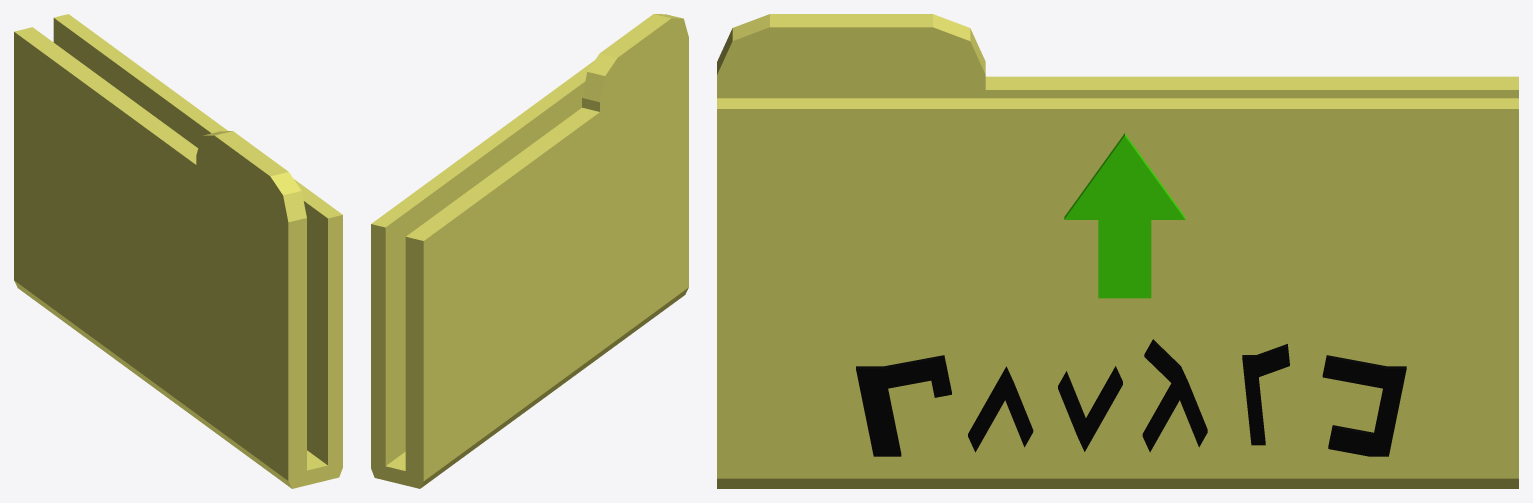
The model's file is FolderModifier.fbx.
3 renders of one model, left to right at view 1: azimuth 30°, elevation 25°; view 2: azimuth 150°, elevation 25°; view 3: azimuth 270°, elevation 25°, orthographic. The views are drawn at different scales.
Visible parts, largest first — view 1: Cube; view 2: Cube; view 3: Cube, Cube.002, Cube.001.
Boxes of the visible parts, x1,y1,x2,y2 form: Cube: (14, 14, 342, 488); Cube: (371, 14, 688, 488); Cube: (717, 14, 1518, 488); Cube.002: (856, 339, 1406, 456); Cube.001: (1064, 133, 1185, 298).
Bounding box in the file's own units: 176 × 863 × 1430.
